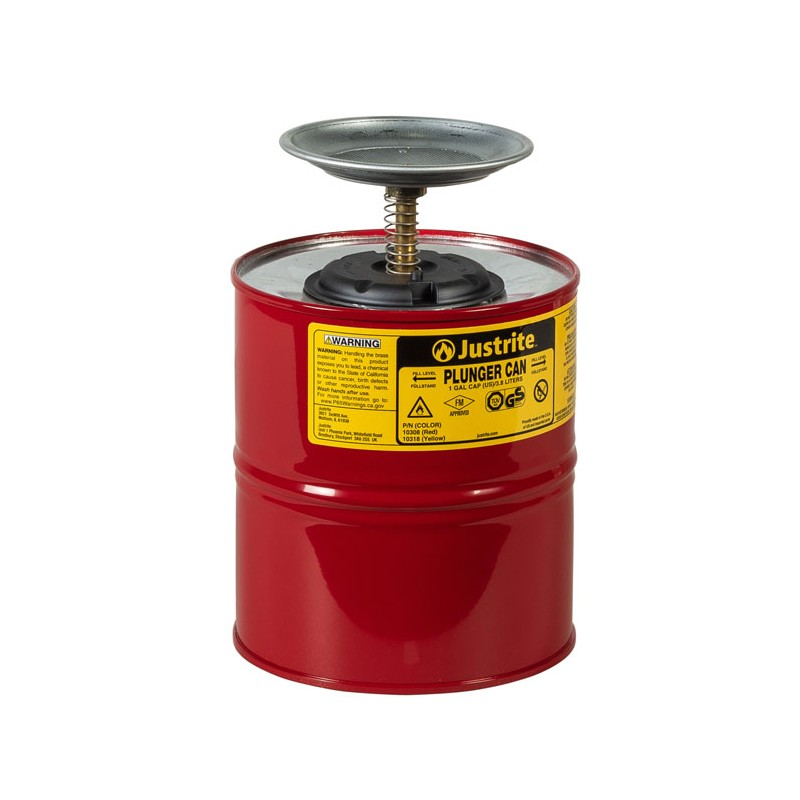cylinder: (231, 229, 577, 695)
